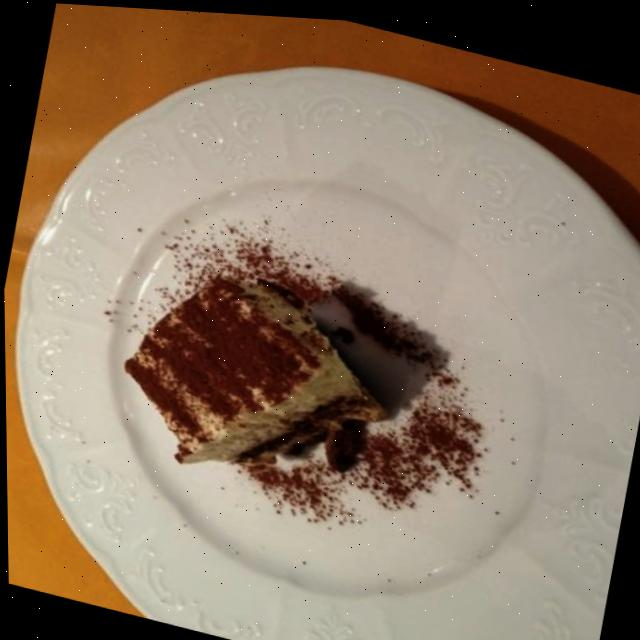蛋糕甜品: (0, 6, 640, 640)
